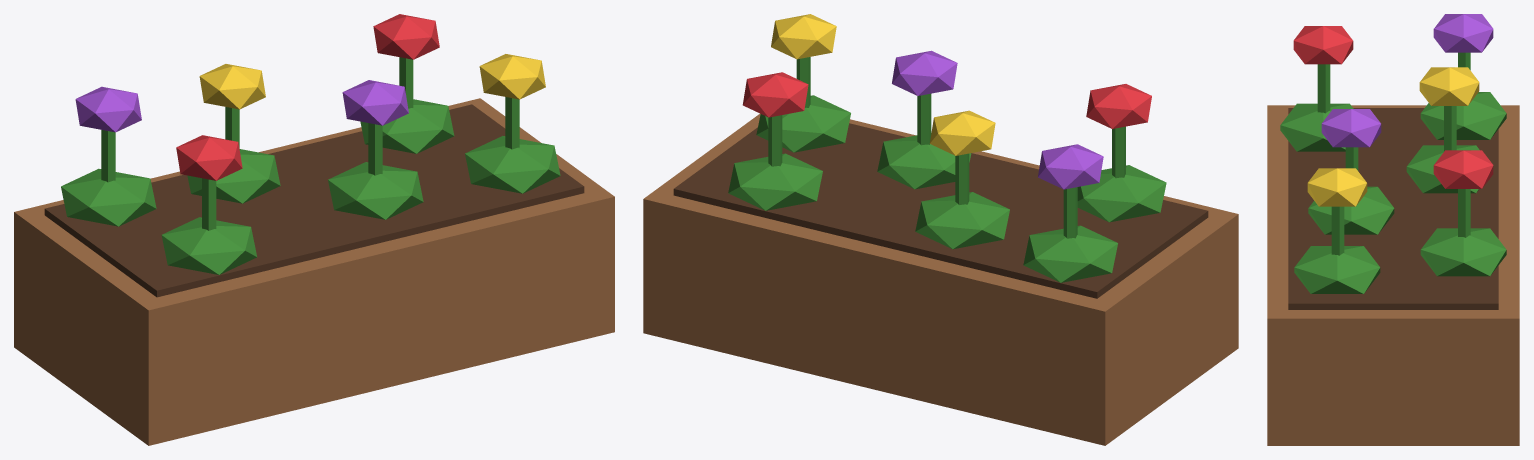
The model's file is Planter.fbx.
The picture shows the model from 3 angles, left to right: view 1: azimuth 30°, elevation 25°; view 2: azimuth 150°, elevation 25°; view 3: azimuth 270°, elevation 25°; orthographic projection. The views are drawn at different scales.
Parts seen in each view (by area): view 1: Box, Soil, Leaves, FlowersYellow, FlowersPurple, FlowersRed; view 2: Box, Soil, Leaves, FlowersYellow, FlowersPurple, FlowersRed; view 3: Box, Soil, Leaves, FlowersRed, FlowersPurple, FlowersYellow.
Part boxes in pixels (<box>): Box: <box>14,98,614,445</box>; Soil: <box>44,104,584,297</box>; Leaves: <box>61,57,560,274</box>; FlowersYellow: <box>199,54,545,109</box>; FlowersPurple: <box>75,80,408,132</box>; FlowersRed: <box>176,14,439,180</box>; Box: <box>643,113,1238,445</box>; Soil: <box>673,123,1208,298</box>; Leaves: <box>728,57,1166,282</box>; FlowersYellow: <box>771,14,995,155</box>; FlowersPurple: <box>892,50,1103,189</box>; FlowersRed: <box>742,72,1151,128</box>; Box: <box>1267,105,1519,445</box>; Soil: <box>1288,108,1498,309</box>; Leaves: <box>1280,52,1506,293</box>; FlowersRed: <box>1293,26,1493,188</box>; FlowersPurple: <box>1321,14,1493,147</box>; FlowersYellow: <box>1307,67,1479,206</box>.
Bounding box in the file's own units: 3.6 × 1.95 × 1.8.
